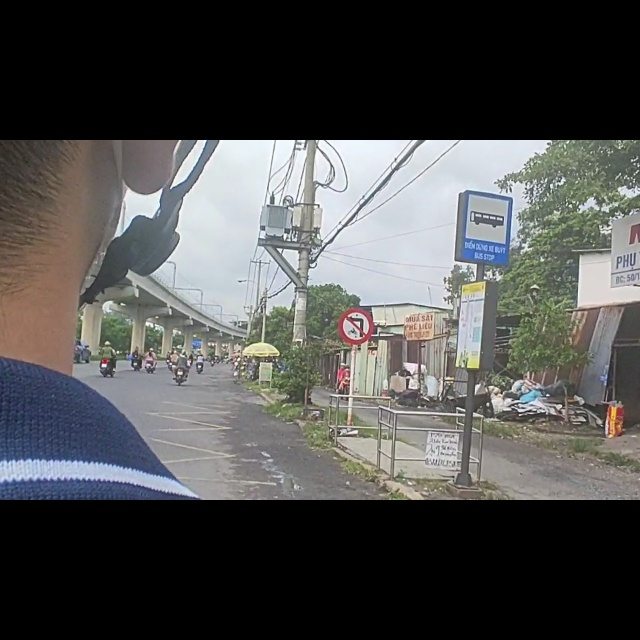bien_cam: (457, 89, 511, 225), (337, 295, 375, 364)
